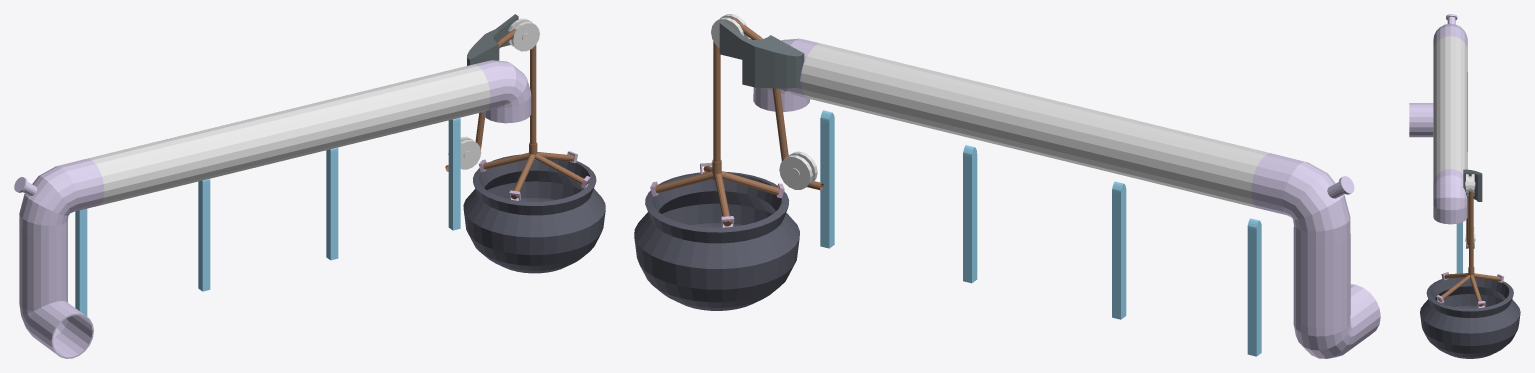
Rendered from Kazanv2.fbx.
3 renders of one model, left to right at view 1: azimuth 30°, elevation 25°; view 2: azimuth 150°, elevation 25°; view 3: azimuth 270°, elevation 25°, orthographic. The views are drawn at different scales.
Parts seen in each view (by area): view 1: Orta Boru, Kenar Boru, Kazan.001, Kazan, kapı.001, kapı.002, kapı, kapı.003, Siyah Şey, Makara, Makara.001; view 2: Orta Boru, Kazan.001, Kenar Boru, Siyah Şey, Kazan, kapı.002, kapı.003, kapı.001, kapı, Makara.001, İp; view 3: Kazan.001, Orta Boru, Kenar Boru, Kazan, Siyah Şey, kapı, Makara, İp.
Boxes of the visible parts, bbox=[...] form: Orta Boru: bbox=[88, 64, 490, 205]; Kenar Boru: bbox=[19, 60, 531, 358]; Kazan.001: bbox=[463, 154, 605, 273]; Kazan: bbox=[478, 45, 590, 200]; kapı.001: bbox=[326, 147, 338, 260]; kapı.002: bbox=[198, 178, 210, 291]; kapı: bbox=[448, 117, 460, 230]; kapı.003: bbox=[75, 208, 87, 316]; Siyah Şey: bbox=[467, 14, 518, 65]; Makara: bbox=[507, 18, 539, 51]; Makara.001: bbox=[448, 136, 481, 169]; Orta Boru: bbox=[801, 43, 1271, 207]; Kazan.001: bbox=[634, 171, 799, 310]; Kenar Boru: bbox=[753, 38, 1380, 358]; Siyah Şey: bbox=[719, 20, 804, 88]; Kazan: bbox=[650, 41, 784, 227]; kapı.002: bbox=[1112, 181, 1126, 319]; kapı.003: bbox=[1247, 218, 1261, 356]; kapı.001: bbox=[963, 145, 977, 283]; kapı: bbox=[820, 110, 834, 248]; Makara.001: bbox=[779, 151, 817, 189]; İp: bbox=[733, 18, 823, 190]; Kazan.001: bbox=[1420, 277, 1520, 358]; Orta Boru: bbox=[1433, 36, 1467, 182]; Kenar Boru: bbox=[1409, 23, 1467, 224]; Kazan: bbox=[1436, 191, 1503, 308]; Siyah Şey: bbox=[1463, 169, 1482, 201]; kapı: bbox=[1456, 222, 1462, 273]; Makara: bbox=[1465, 174, 1475, 195]; İp: bbox=[1466, 175, 1470, 247].
Bounding box in the file's own units: 420 × 165 × 96.52.
